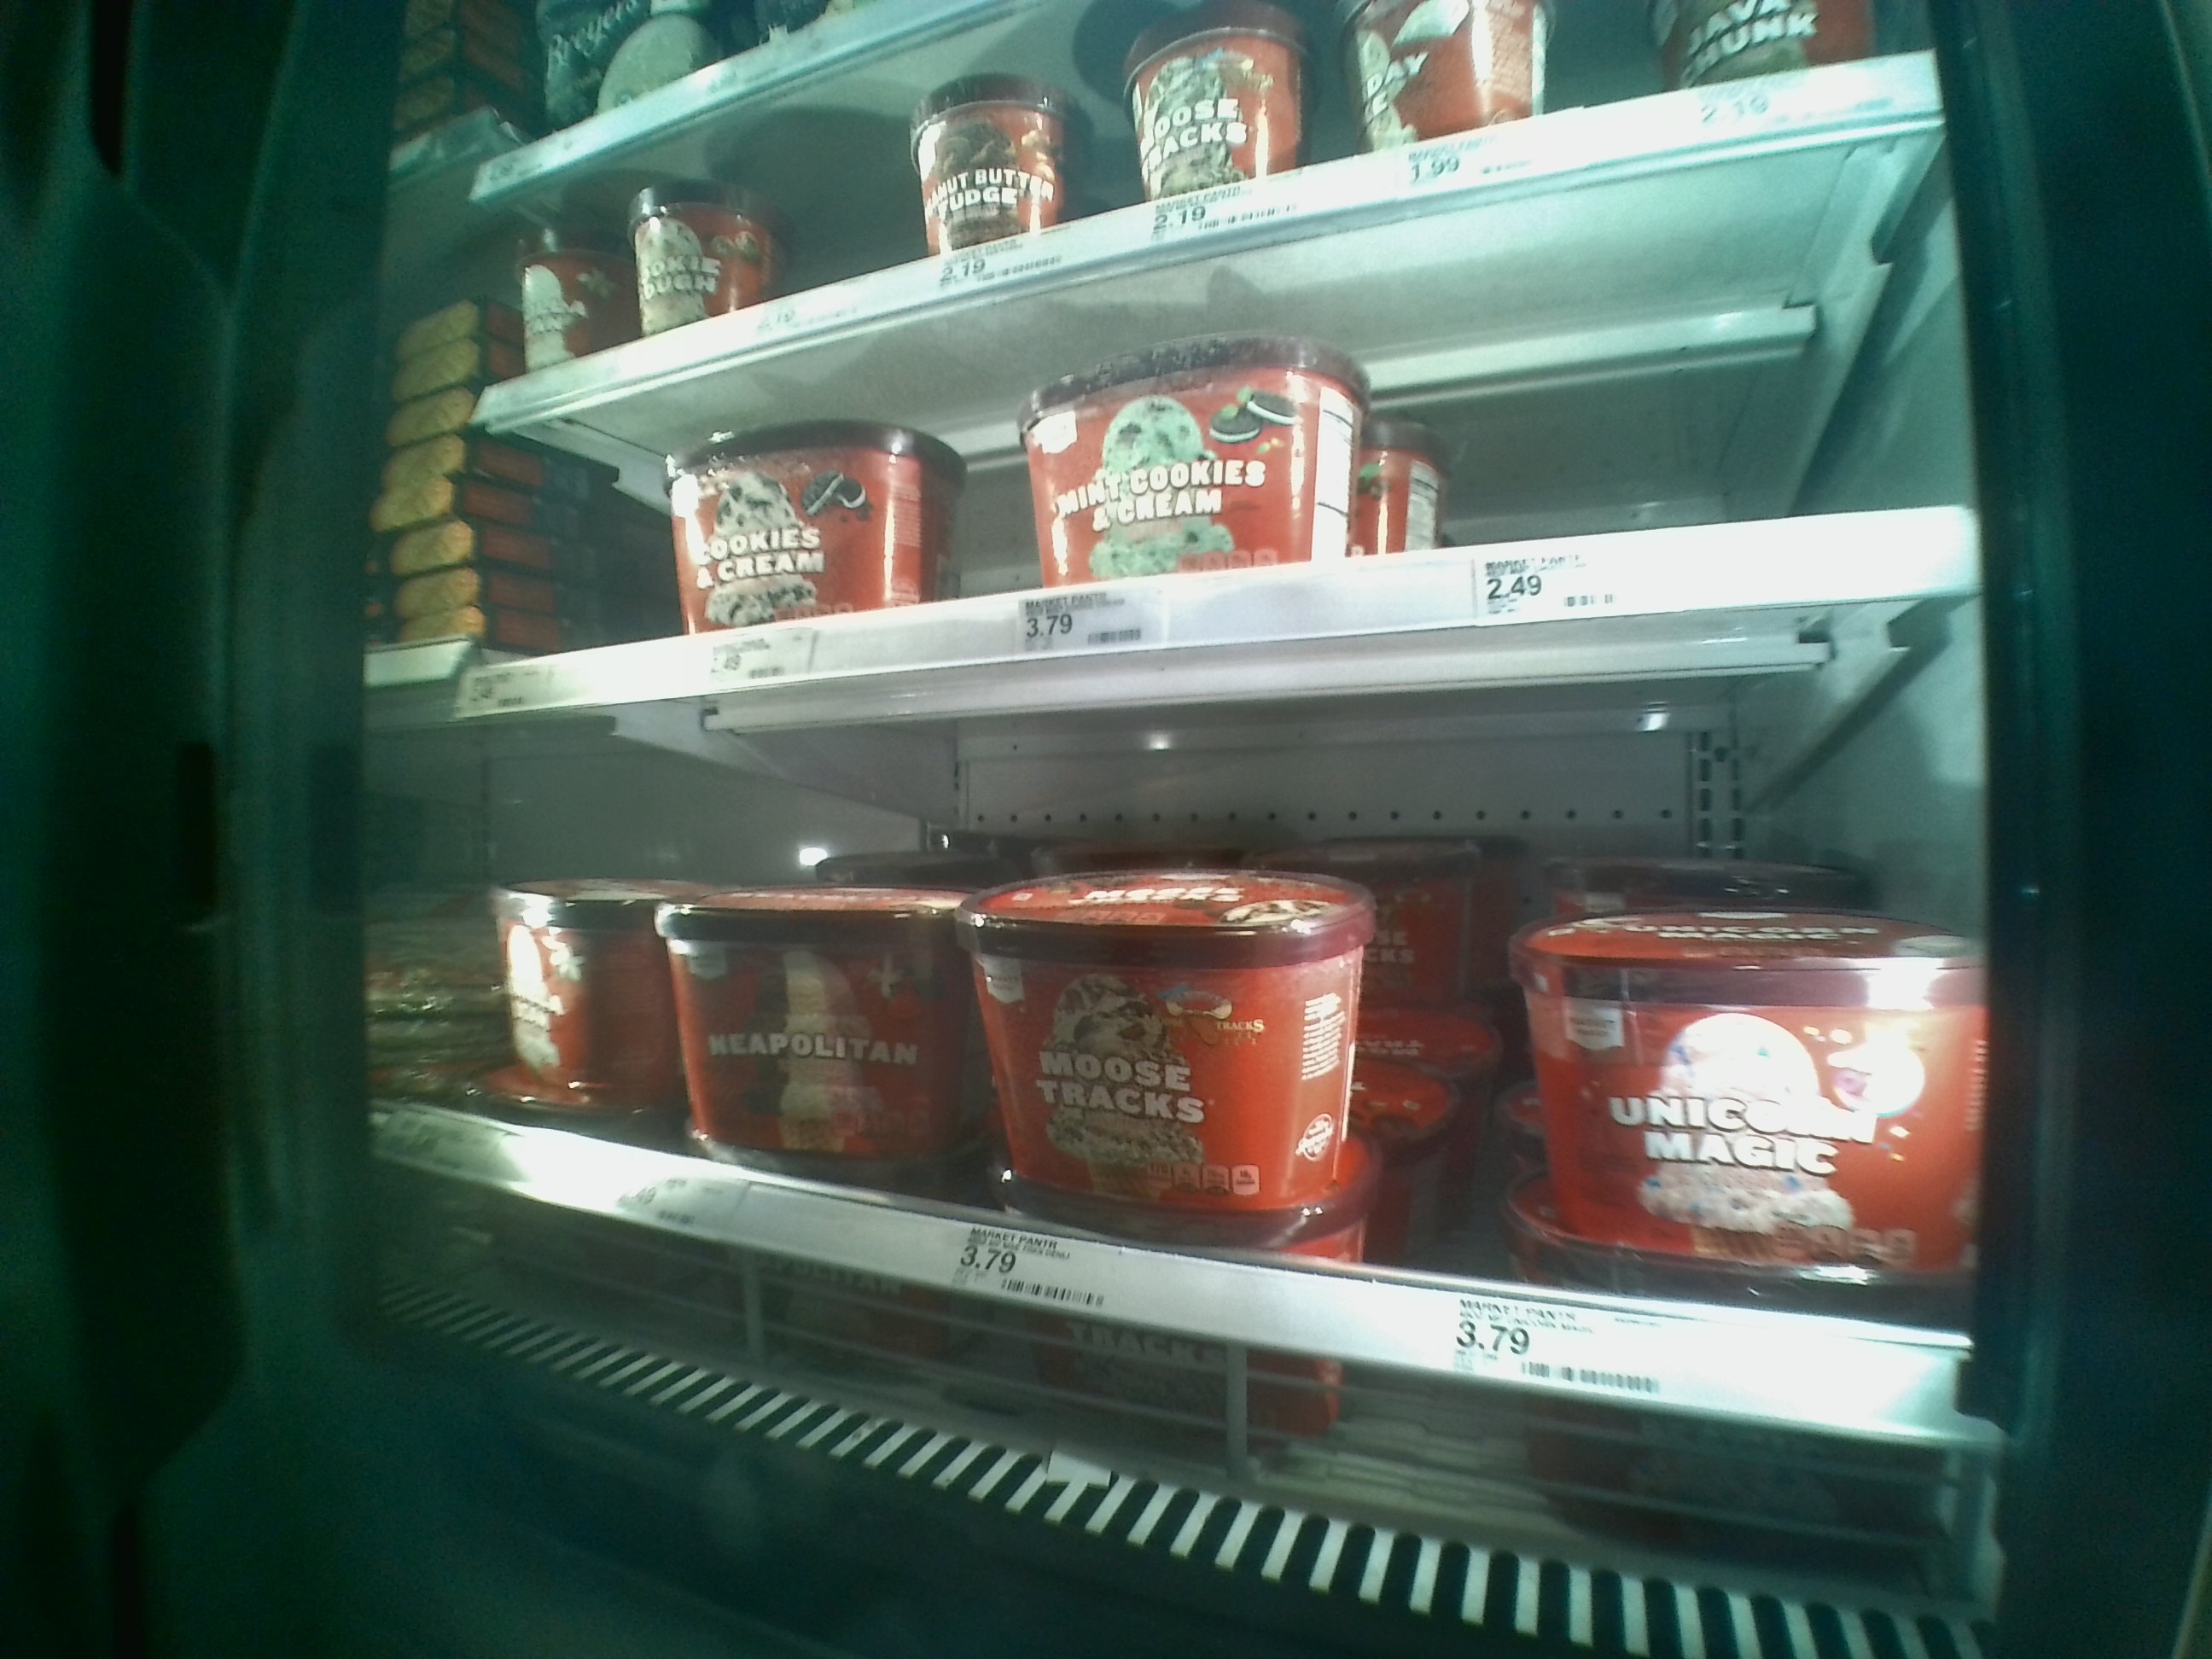shelf: (451, 601, 1991, 1535), (456, 125, 1963, 711)
